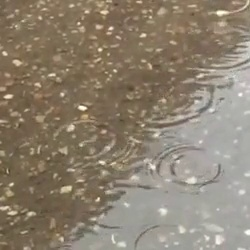drop: (150, 146, 225, 194), (191, 23, 250, 72), (56, 120, 114, 159), (134, 225, 177, 250), (196, 1, 247, 15), (194, 72, 234, 88)
